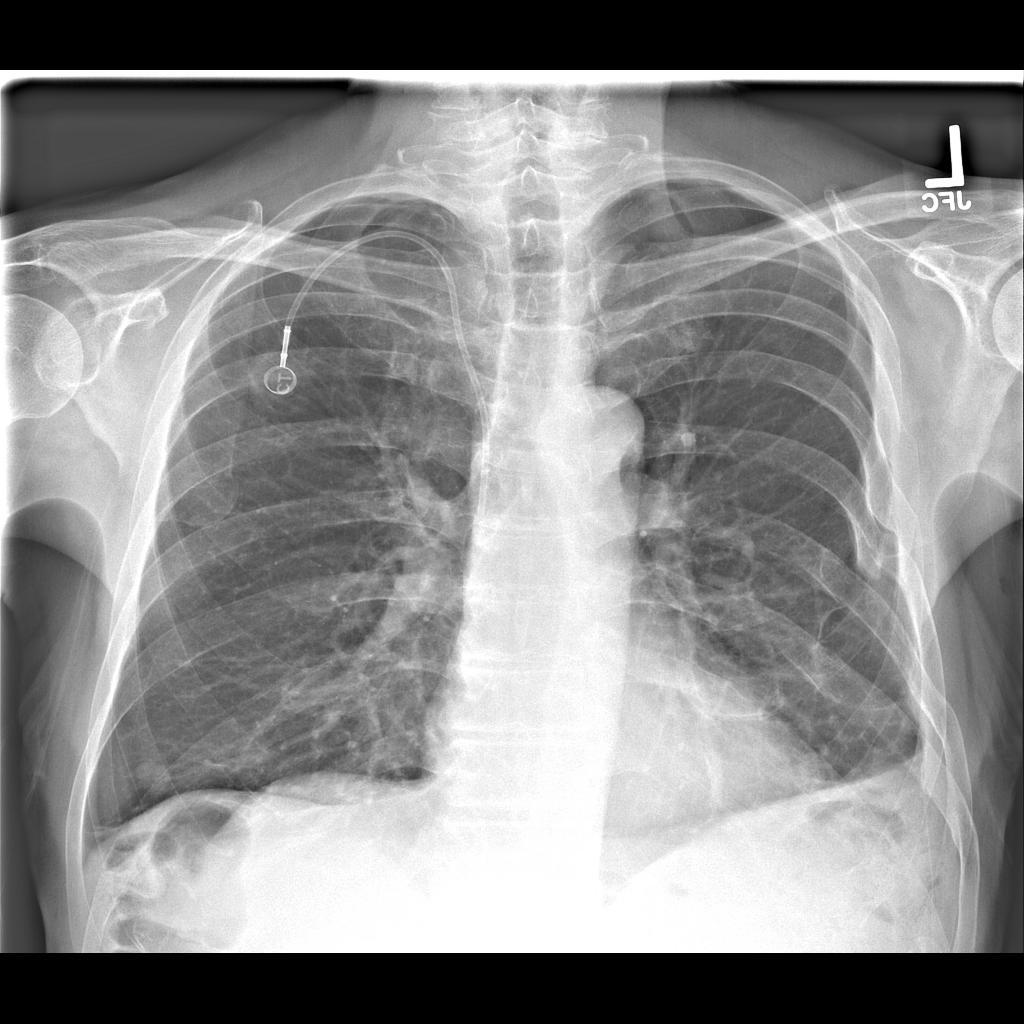Nodule: (126, 752, 186, 803)
